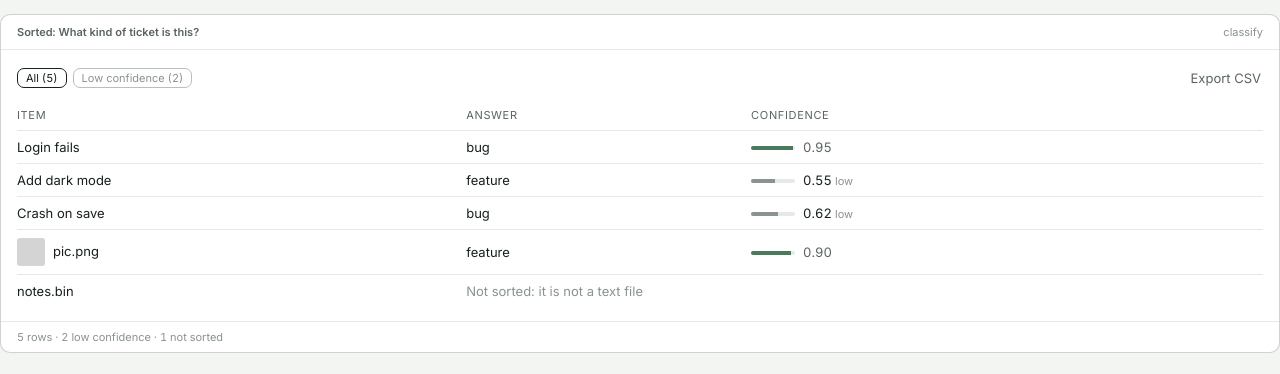
Test case: correcting a row › closes the choices with Escape and changes nothing
Click the button "bug" in the row of "Login fails": (478, 147) [466,139,490,155]
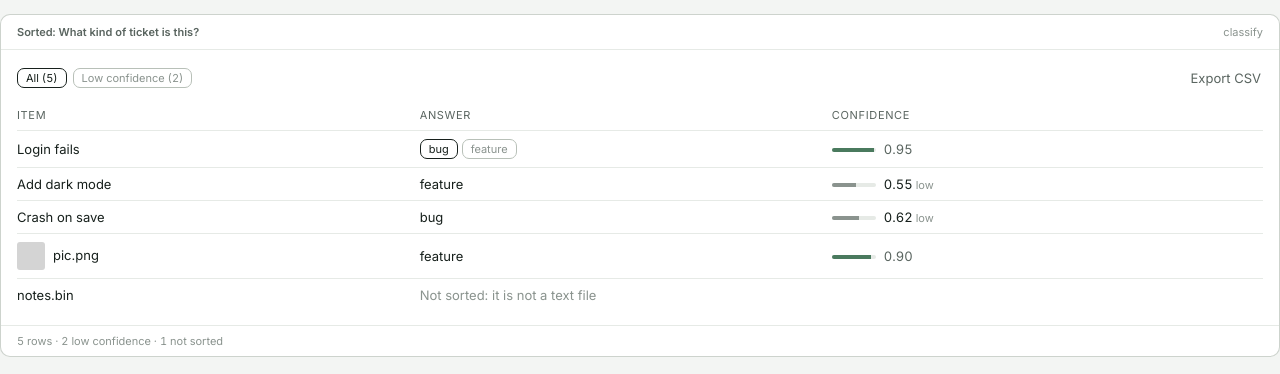
Press Escape in the element with class "cls-choices", box [420,139,517,159]
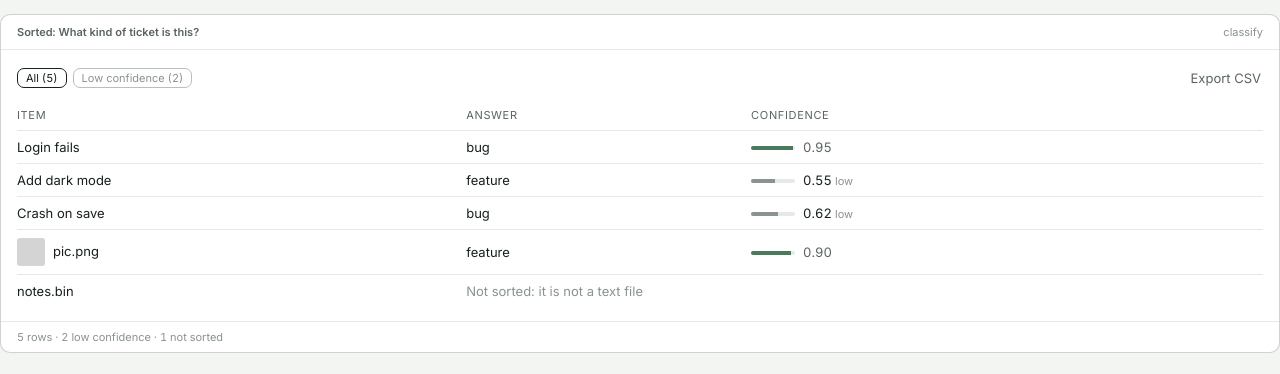
Expected: the element with class "cls-choices" is gone
